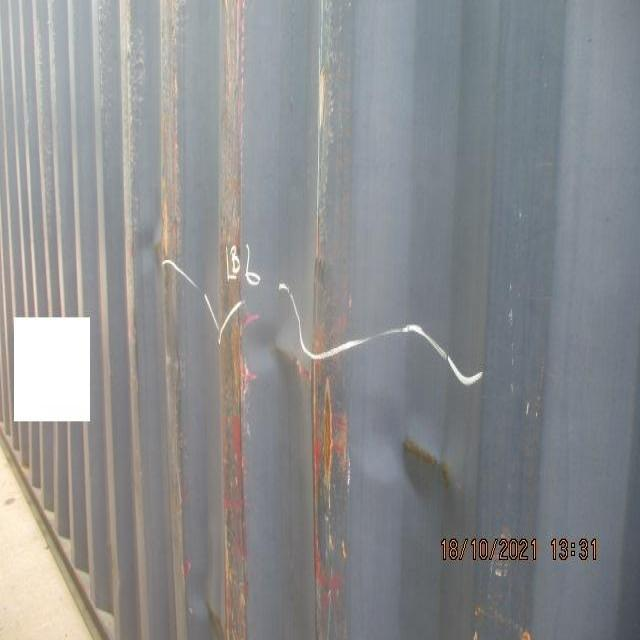dent: (344, 363, 459, 503), (125, 218, 196, 372), (238, 304, 318, 405)
